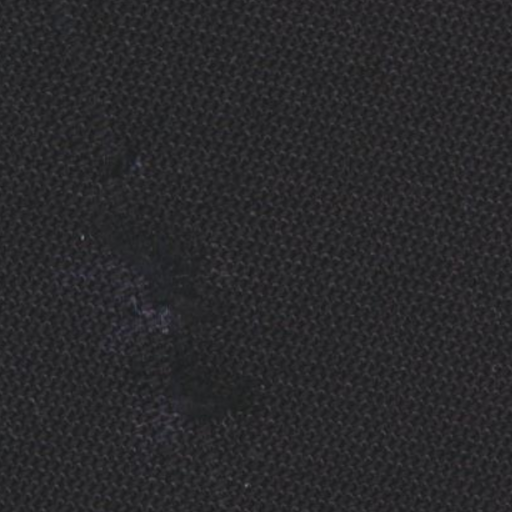DaiSha: (124, 212, 208, 400)
